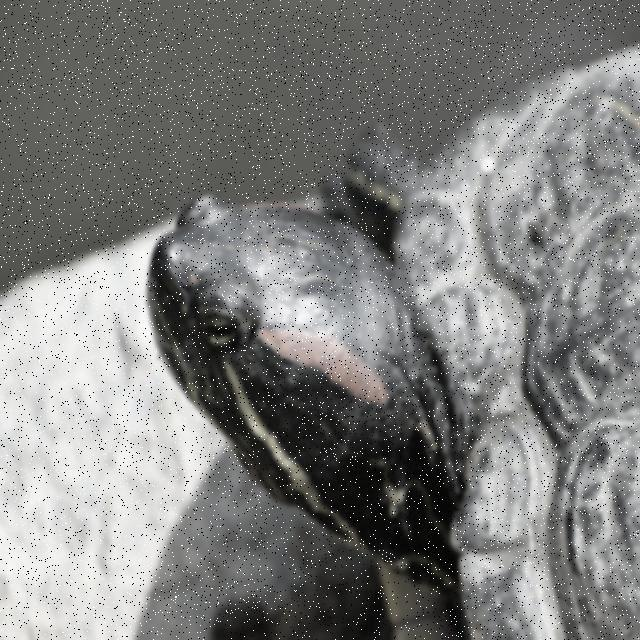tortoise: (125, 30, 639, 640)
